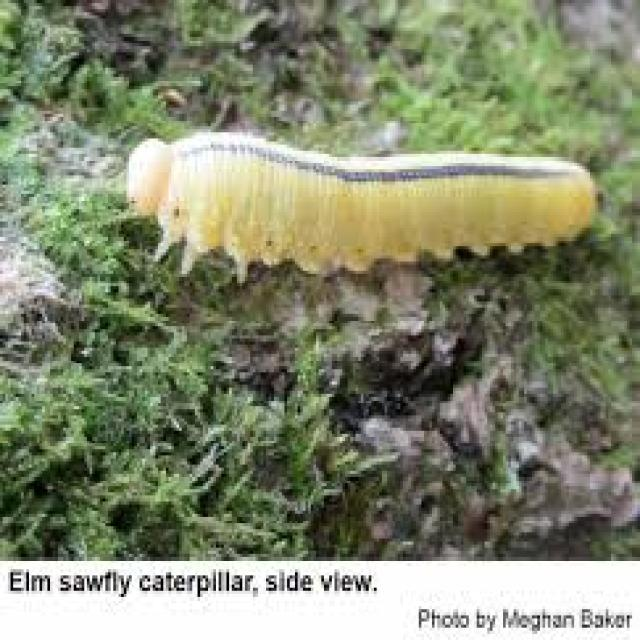Saw Fly: (121, 129, 604, 288)
